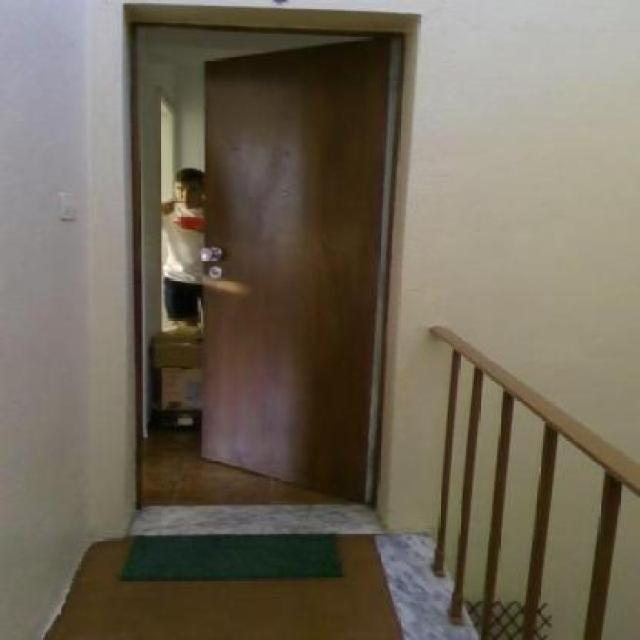door_handle: (197, 245, 231, 271)
